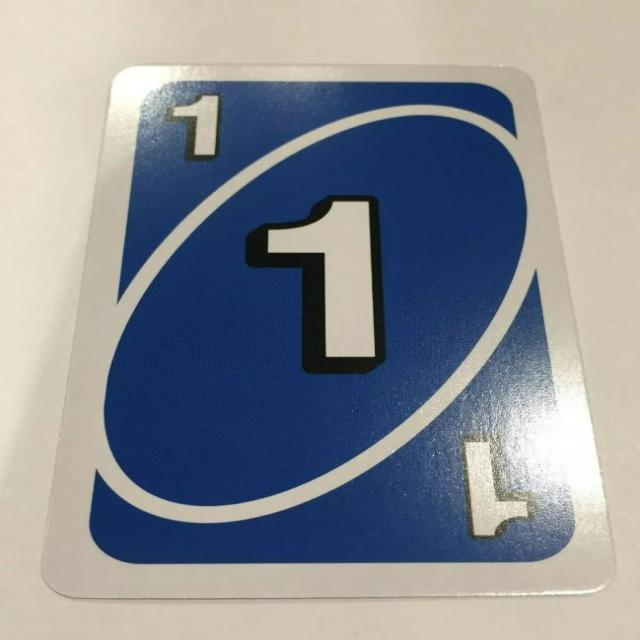Blue_Card: (82, 73, 583, 570)
Number_1: (160, 87, 227, 162)
